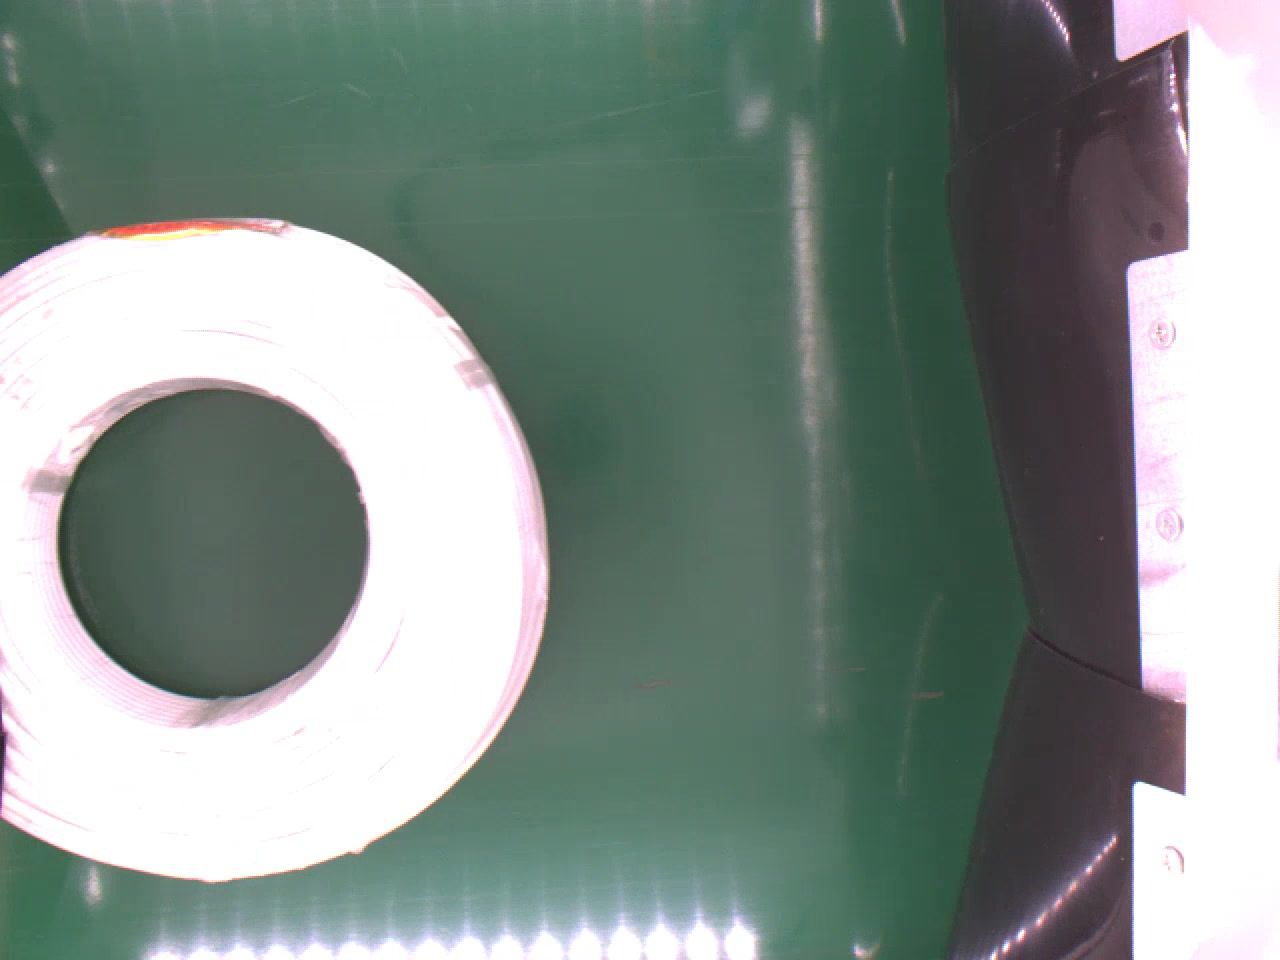white: (0, 209, 547, 883)
